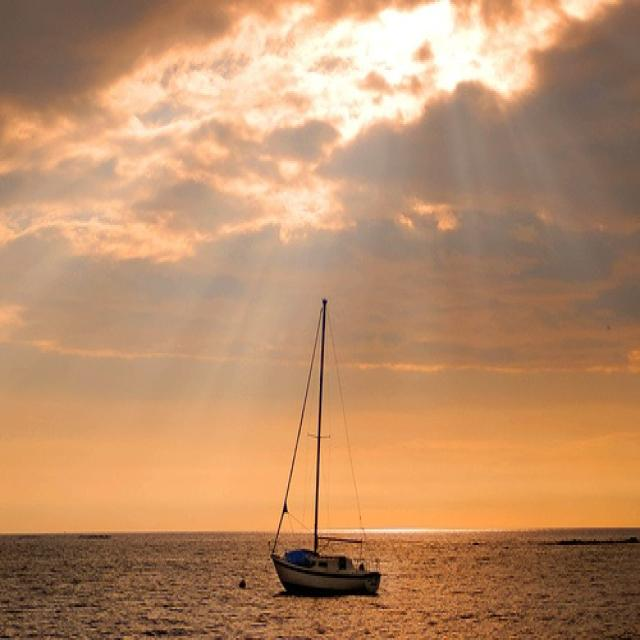boat: (269, 296, 384, 596)
